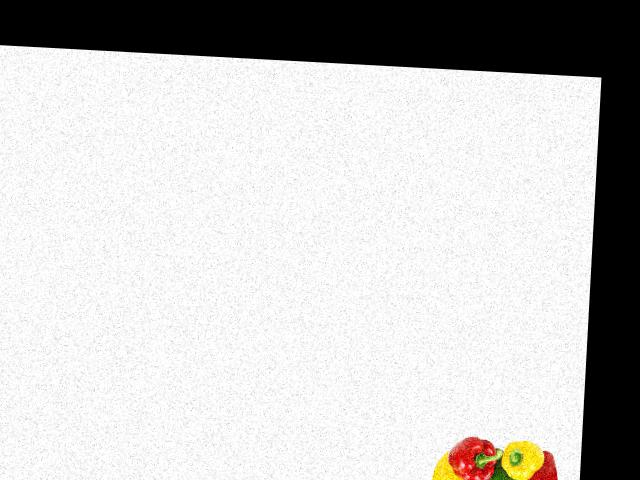bell_pepper: (518, 455, 562, 480)
